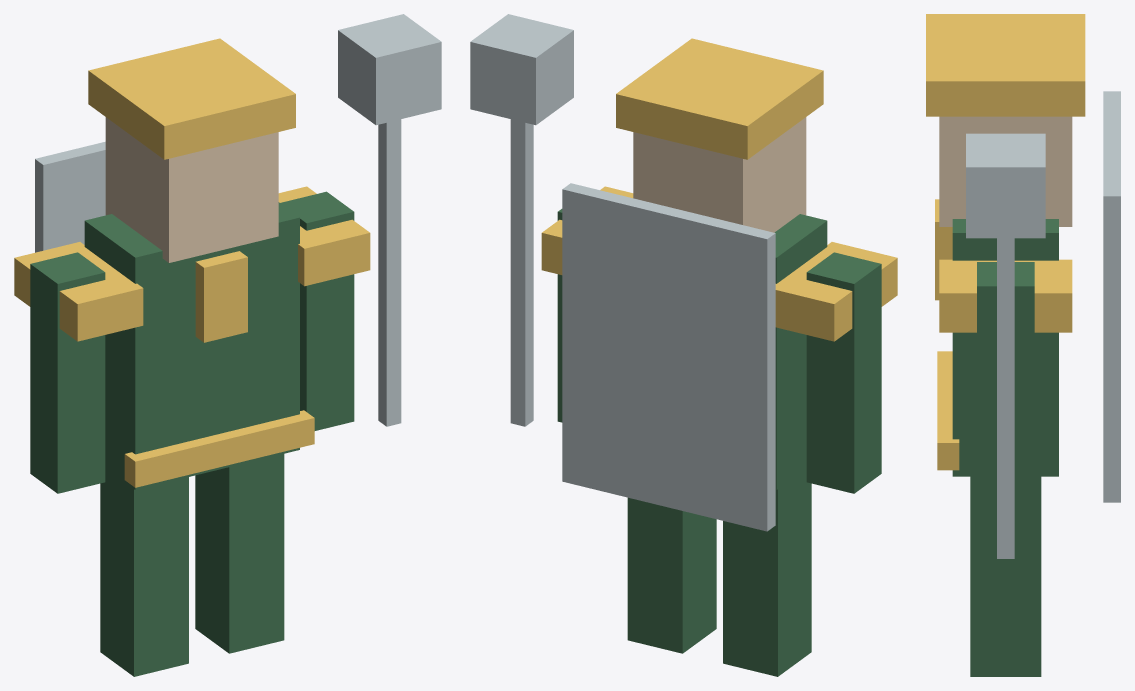
File: 08_makoa_cragwarden_scout_of.glb
3 renders of one model, left to right at view 1: azimuth 30°, elevation 25°; view 2: azimuth 150°, elevation 25°; view 3: azimuth 270°, elevation 25°, orthographic. The views are drawn at different scales.
Parts seen in each view (by area): view 1: Makoa Cragwarden, Scout of; view 2: Makoa Cragwarden, Scout of; view 3: Makoa Cragwarden, Scout of.
Boxes of the visible parts, x1=… form: Makoa Cragwarden, Scout of: x1=14, y1=14, x2=441, y2=676; Makoa Cragwarden, Scout of: x1=470, y1=14, x2=897, y2=676; Makoa Cragwarden, Scout of: x1=926, y1=14, x2=1120, y2=676.
Bounding box in the file's own units: 0.9879 × 1.41 × 0.42.
